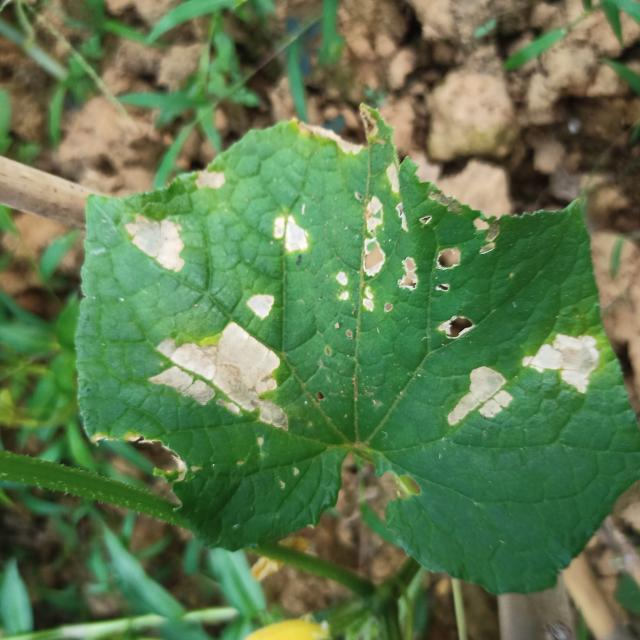disease_cucumber: (147, 284, 301, 436), (331, 193, 390, 320), (522, 326, 605, 397), (442, 360, 516, 436), (116, 212, 194, 274), (398, 236, 464, 298), (270, 200, 310, 264), (188, 157, 243, 195), (440, 308, 478, 344)
